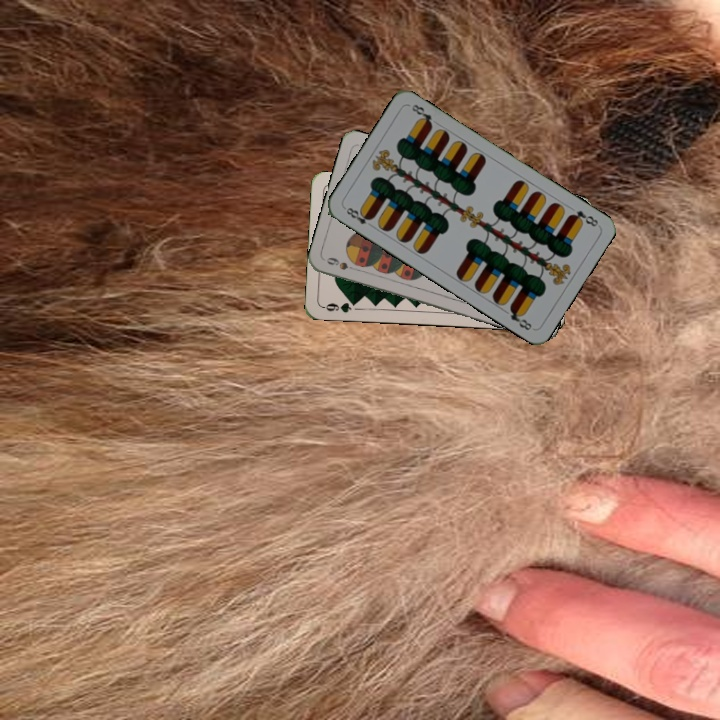E8: (342, 203, 377, 231), (565, 206, 601, 229)
G9: (319, 297, 360, 315)
S9: (323, 253, 362, 274)
